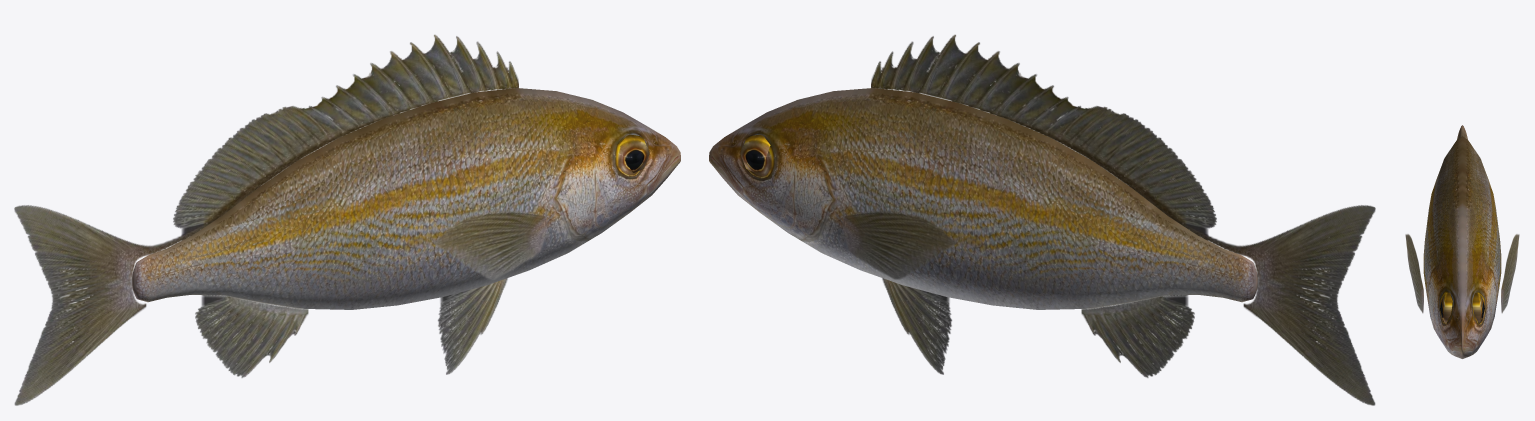
File: isaki_lo.glb
3 renders of one model, left to right at view 1: azimuth 30°, elevation 25°; view 2: azimuth 150°, elevation 25°; view 3: azimuth 270°, elevation 25°, orthographic. The views are drawn at different scales.
Parts seen in each view (by area): view 1: isaki; view 2: isaki; view 3: isaki.
Part boxes in pixels (bbox=[...]): isaki: bbox=[14, 34, 680, 405]; isaki: bbox=[709, 34, 1375, 405]; isaki: bbox=[1405, 125, 1519, 358].
Bounding box in the file's own units: 0.3505 × 0.1725 × 0.0692.
Materials: 1 (1 with a texture image).
